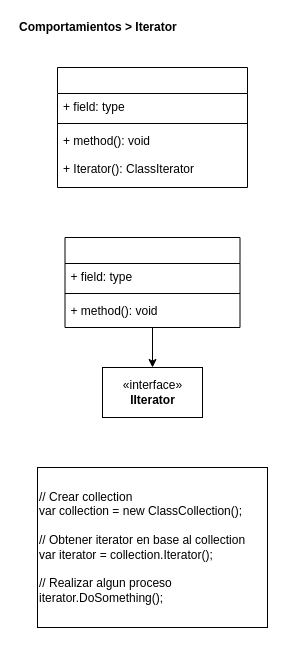
Image size: 285x645. Some labels were removed from this diagram. Here are the shapes that lost their labels. From the top down, the box of each, then its label:
(56, 66, 248, 188): ClassCollection : ICollection
(64, 236, 240, 328): ClassIterator : IIterator
